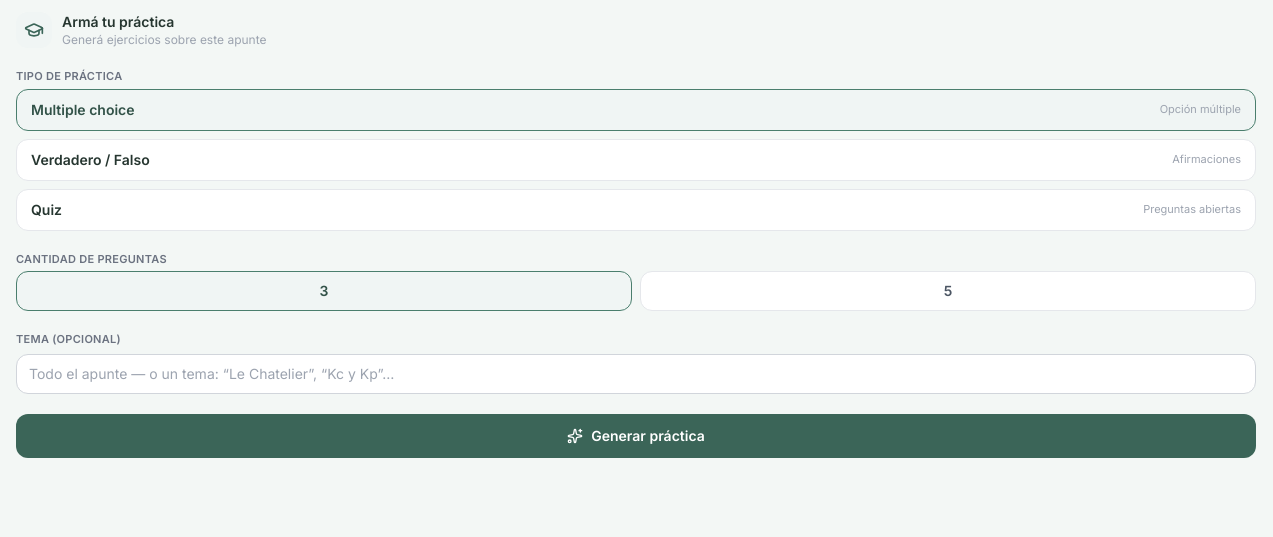
Test: StudyPanel › muestra un error en el setup si el backend no devuelve actividad
Click the button "Generar práctica" at (636, 436), box [16,414,1256,458]
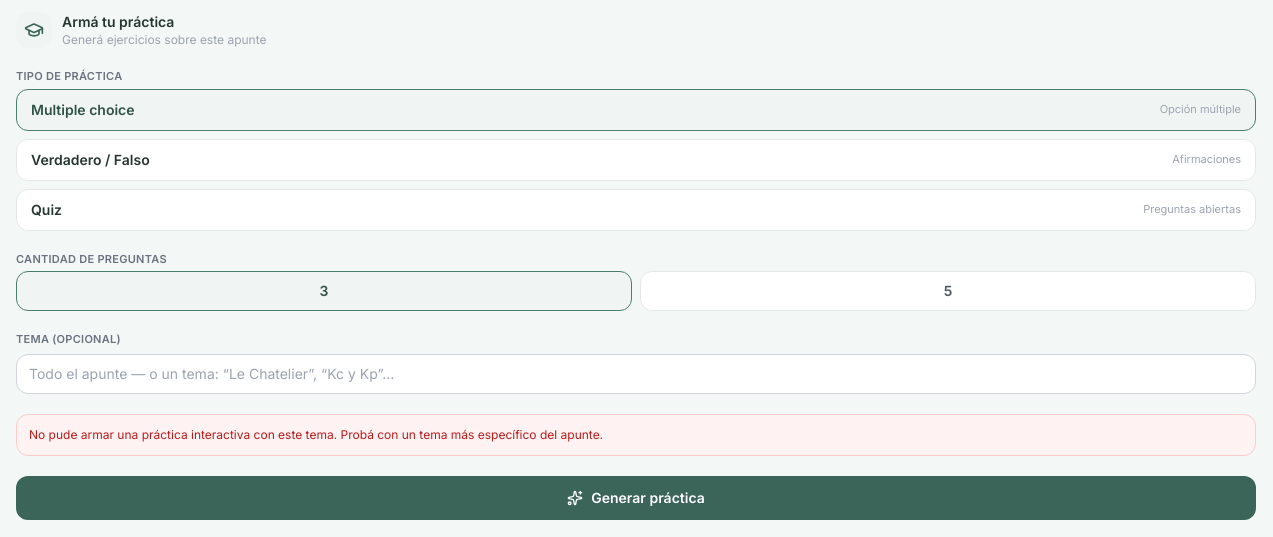
Expected: the button "Generar práctica" is shown, [16,476,1256,520]
Expected: the text "No pude armar una práctica interactiva" is shown, [29,426,603,442]
